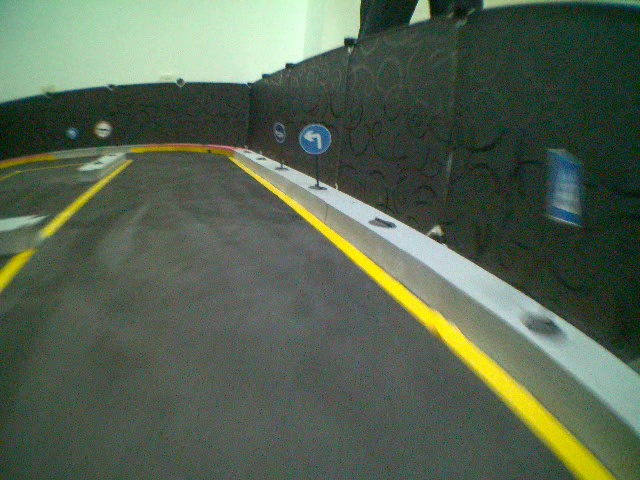Check: (90, 115, 116, 140)
horn: (269, 121, 290, 147)
turn: (296, 121, 339, 156)
